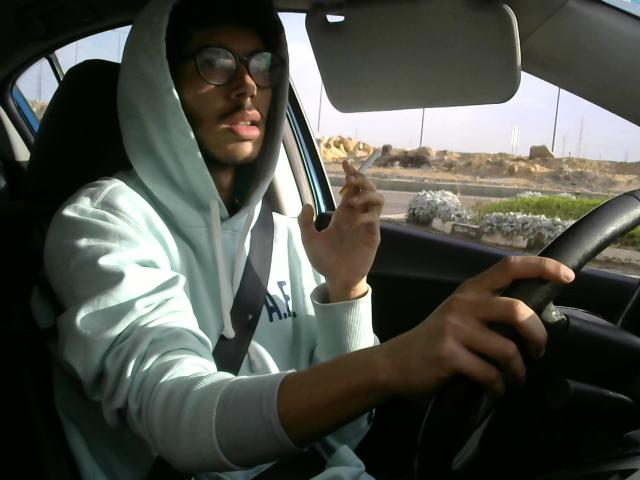Smoking: (338, 147, 390, 199)
